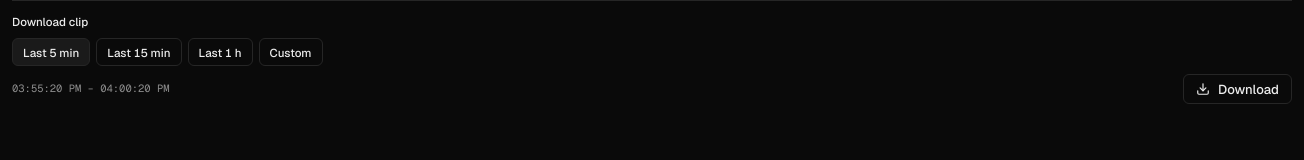
Test: progress › cancels the request
The image size is (1304, 160).
Click the button "Download" at {"x": 1238, "y": 89}, box [1183,74,1292,104]
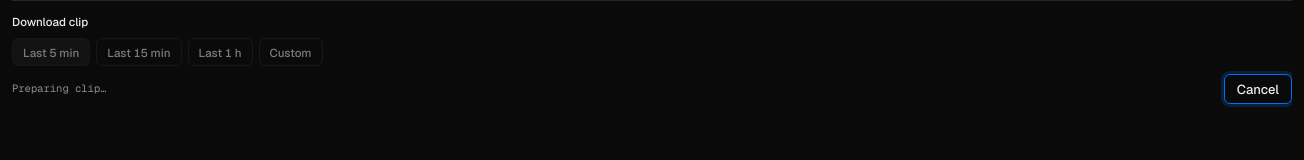
Click the button "Cancel" at {"x": 1258, "y": 89}, box [1224,74,1292,104]
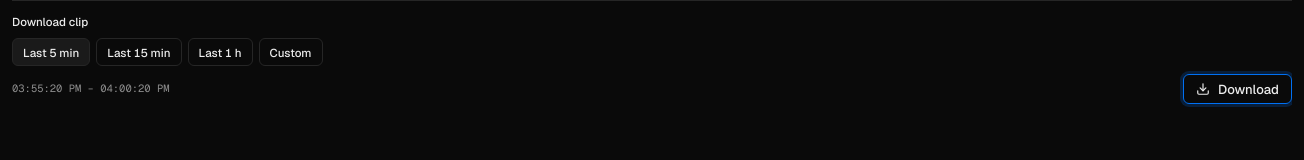
Check: the button "Download" is shown, box [1183,74,1292,104]
